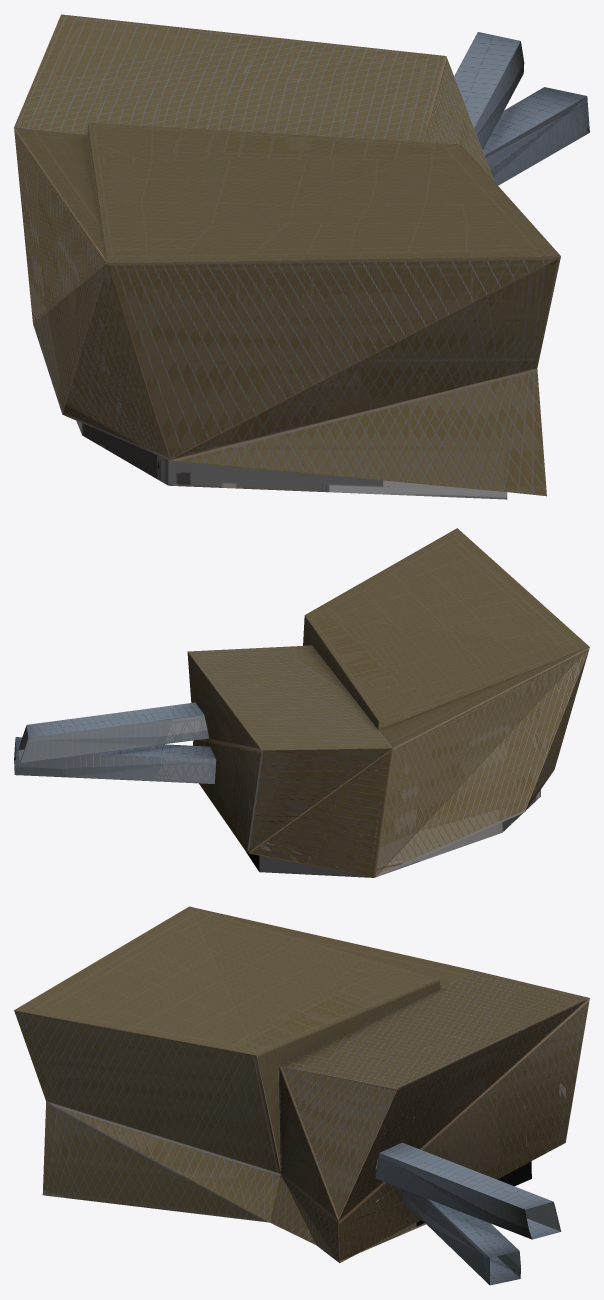
The picture shows the model from 3 angles, top to bottom: view 1: azimuth 30°, elevation 25°; view 2: azimuth 150°, elevation 25°; view 3: azimuth 270°, elevation 25°; orthographic projection. The views are drawn at different scales.
Parts seen in each view (by area): view 1: Plane.003; view 2: Plane.003; view 3: Plane.003.
Boxes of the visible parts, box(x1,y1,x2,y2) form: Plane.003: box(14, 14, 589, 499); Plane.003: box(14, 528, 589, 877); Plane.003: box(14, 906, 589, 1285).
Size of the model in its own units: 84.02 by 30.36 by 84.71.
1 material, 1 textured.
